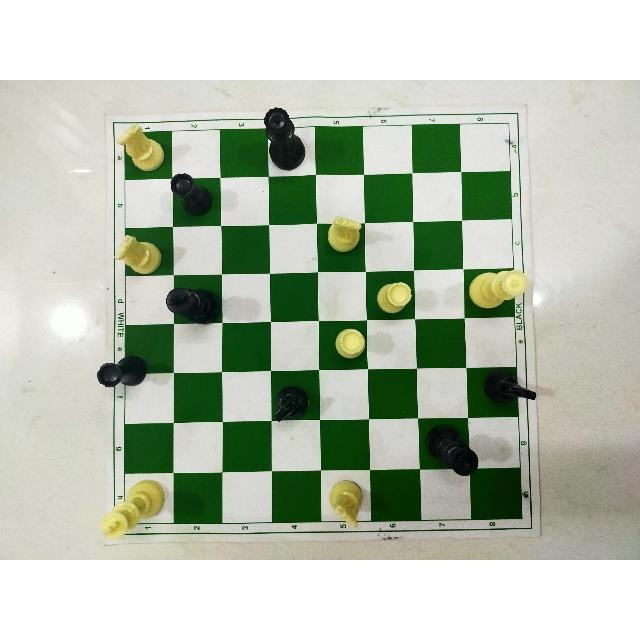black-king: (420, 417, 484, 482), (163, 281, 225, 328)
black-knight: (473, 362, 537, 420), (267, 378, 314, 429)
black-queen: (256, 101, 310, 171)
black-rook: (93, 346, 159, 394), (167, 170, 216, 220)
white-king: (96, 475, 170, 549)
white-knight: (113, 117, 165, 176), (322, 474, 366, 536), (115, 228, 167, 275), (321, 213, 365, 261)
white-queen: (464, 266, 536, 317)
white-rook: (371, 274, 417, 316), (328, 322, 370, 366)
